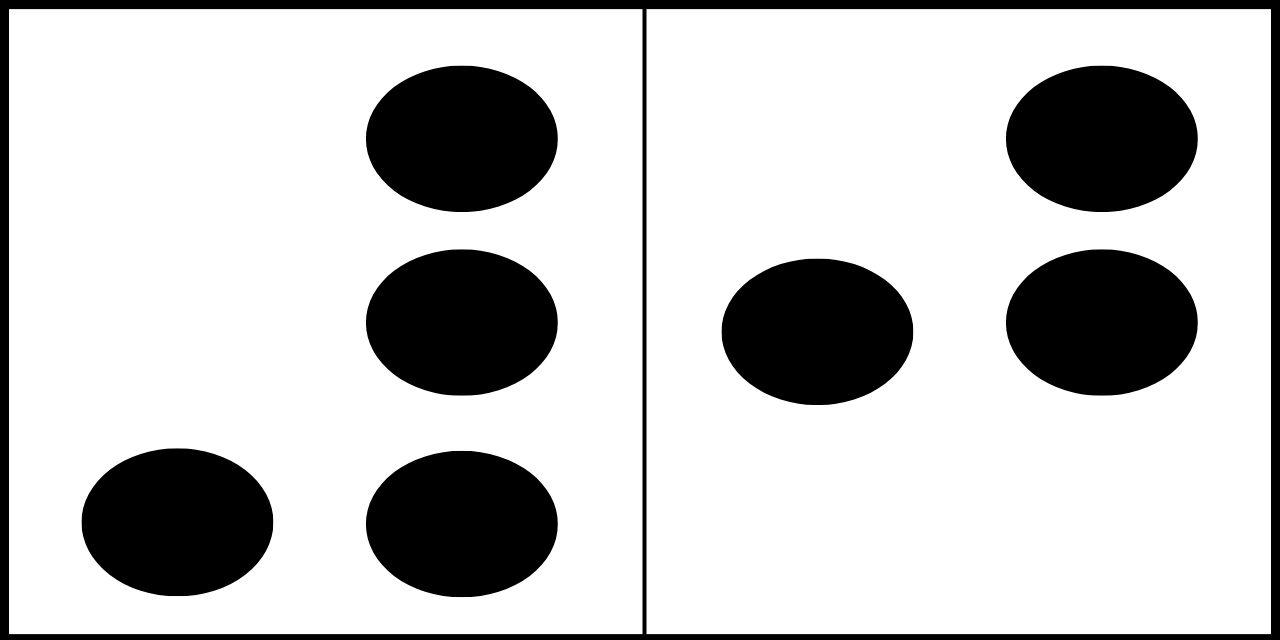digit_0: (724, 66, 1200, 595)
number_sign: (82, 64, 558, 596)
